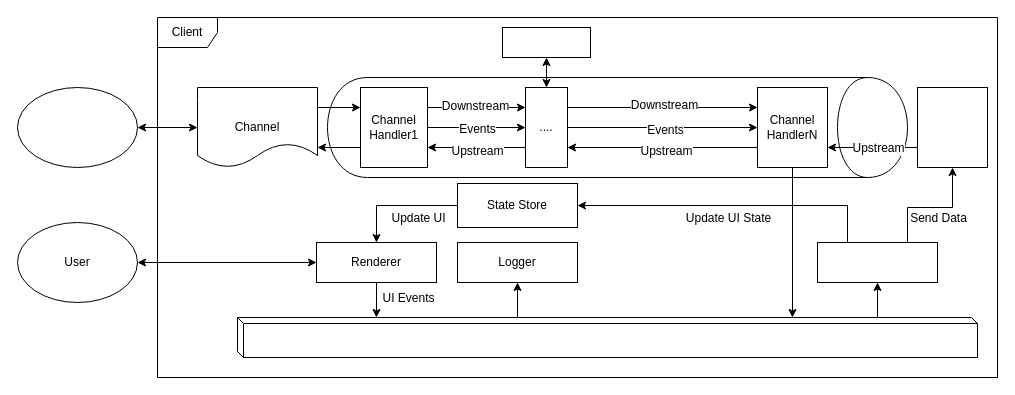
The diagram is 1015 pixels wide and 395 high, and some of its shapes have lost their labels. Here are the shapes that lost their labels. From the top down, the centre of each, then its label:
At point (546, 42): "Codec".
At point (77, 127): "Server".
At point (952, 127): "Client API".
At point (877, 262): "Reactor".
At point (607, 337): "Event Bus".
